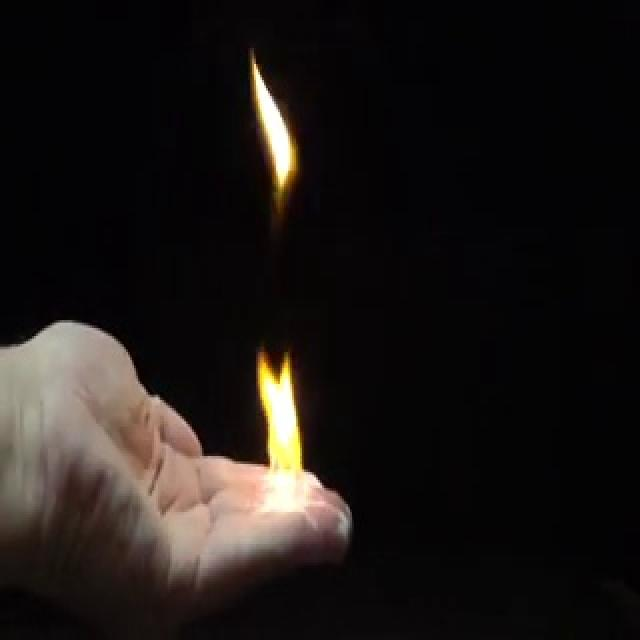fire: (250, 339, 312, 517)
